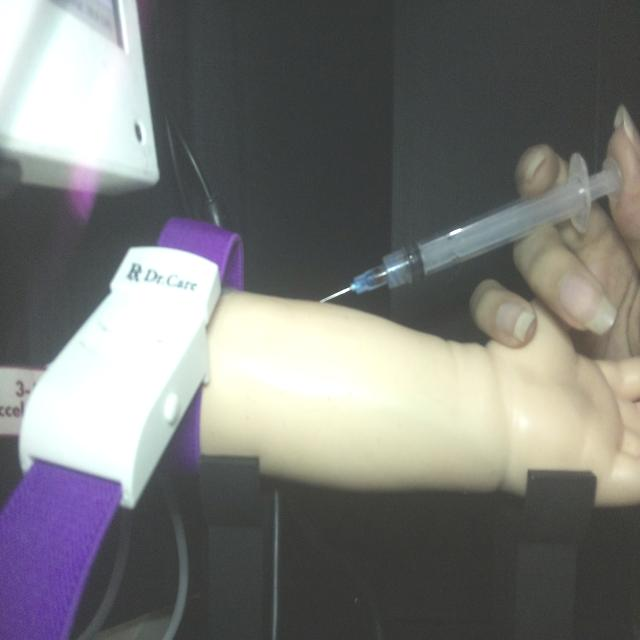16 degrees: (317, 149, 624, 306)
